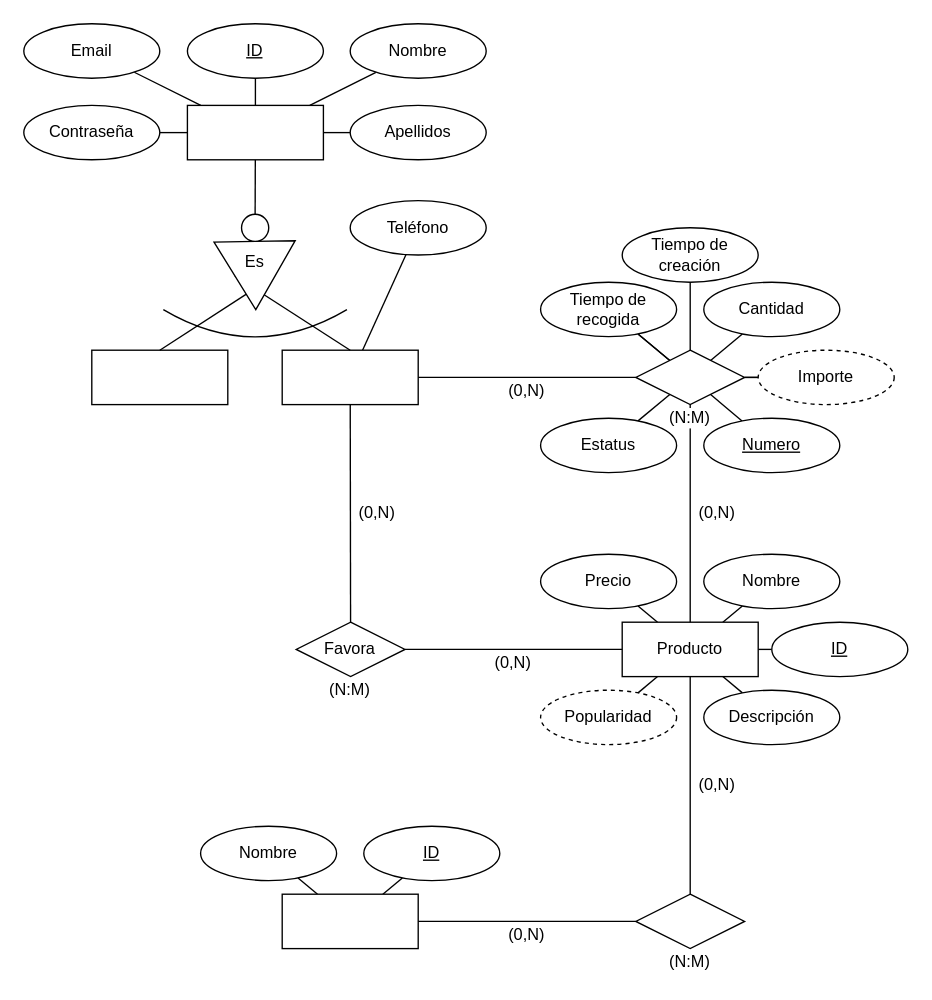
Some shapes in this 932 by 1000 pixel diagram are drawn without their labels. Each missing label, with the centre of its shape:
"Cliente" goes at pixel 349 377.
"Moderador" goes at pixel 159 377.
"Pide" goes at pixel 689 377.
"Tag/Categoría" goes at pixel 349 921.
"Tiene" goes at pixel 689 921.
"Usario/Cuenta" goes at pixel 254 132.
